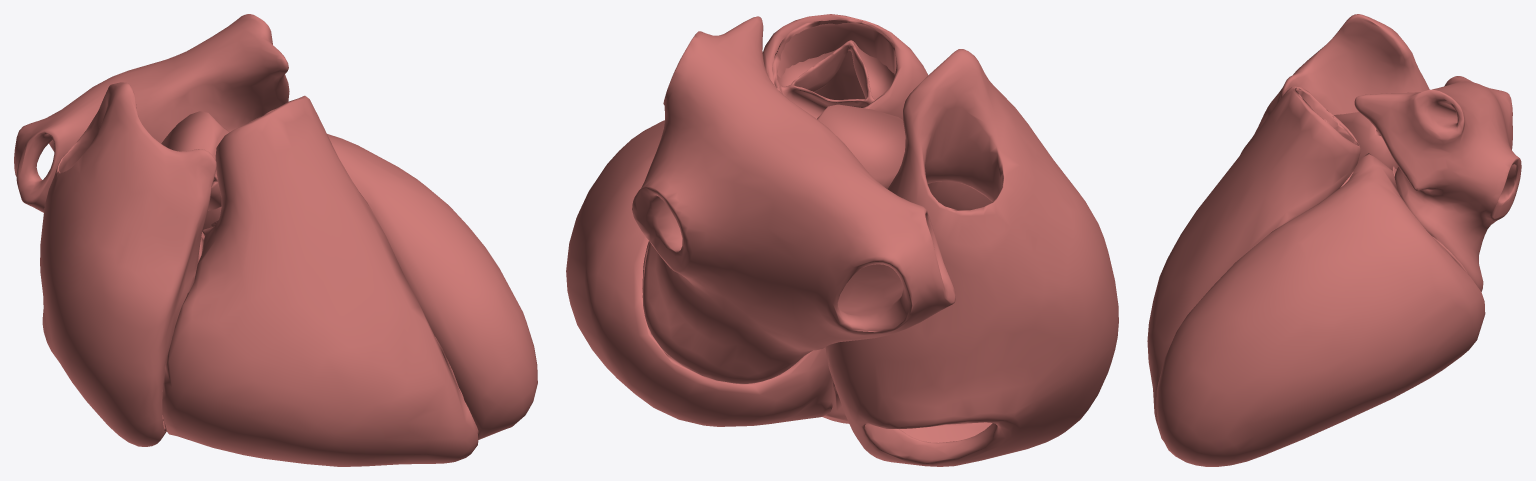
Rendered from 3d-vh-m-heart_lod_20.glb.
3 views of the same model, side by side, from view 1: azimuth 30°, elevation 25°; view 2: azimuth 150°, elevation 25°; view 3: azimuth 270°, elevation 25° (orthographic). The views are drawn at different scales.
Visible parts, largest first — view 1: VH_M_heart_right_ventricle, VH_M_right_cardiac_atrium, VH_M_heart_left_ventricle, VH_M_left_cardiac_atrium, VH_M_aortic_valve; view 2: VH_M_left_cardiac_atrium, VH_M_right_cardiac_atrium, VH_M_heart_left_ventricle, VH_M_heart_right_ventricle, VH_M_pulmonary_valve, VH_M_aortic_valve; view 3: VH_M_heart_left_ventricle, VH_M_heart_right_ventricle, VH_M_left_cardiac_atrium, VH_M_right_cardiac_atrium, VH_M_aortic_valve.
Boxes of the visible parts, <box> form: VH_M_heart_right_ventricle: <box>162,95,478,466</box>; VH_M_right_cardiac_atrium: <box>40,82,216,446</box>; VH_M_heart_left_ventricle: <box>202,134,537,439</box>; VH_M_left_cardiac_atrium: <box>14,14,289,212</box>; VH_M_aortic_valve: <box>161,111,229,210</box>; VH_M_left_cardiac_atrium: <box>632,16,955,383</box>; VH_M_right_cardiac_atrium: <box>825,49,1118,466</box>; VH_M_heart_left_ventricle: <box>566,120,833,426</box>; VH_M_heart_right_ventricle: <box>762,14,928,423</box>; VH_M_pulmonary_valve: <box>772,19,897,118</box>; VH_M_aortic_valve: <box>817,104,905,188</box>; VH_M_heart_left_ventricle: <box>1156,153,1485,466</box>; VH_M_heart_right_ventricle: <box>1147,86,1360,440</box>; VH_M_left_cardiac_atrium: <box>1354,76,1521,291</box>; VH_M_right_cardiac_atrium: <box>1240,14,1429,154</box>; VH_M_aortic_valve: <box>1334,112,1398,169</box>.
Size of the model in its own units: 0.1244 by 0.1055 by 0.1053.
